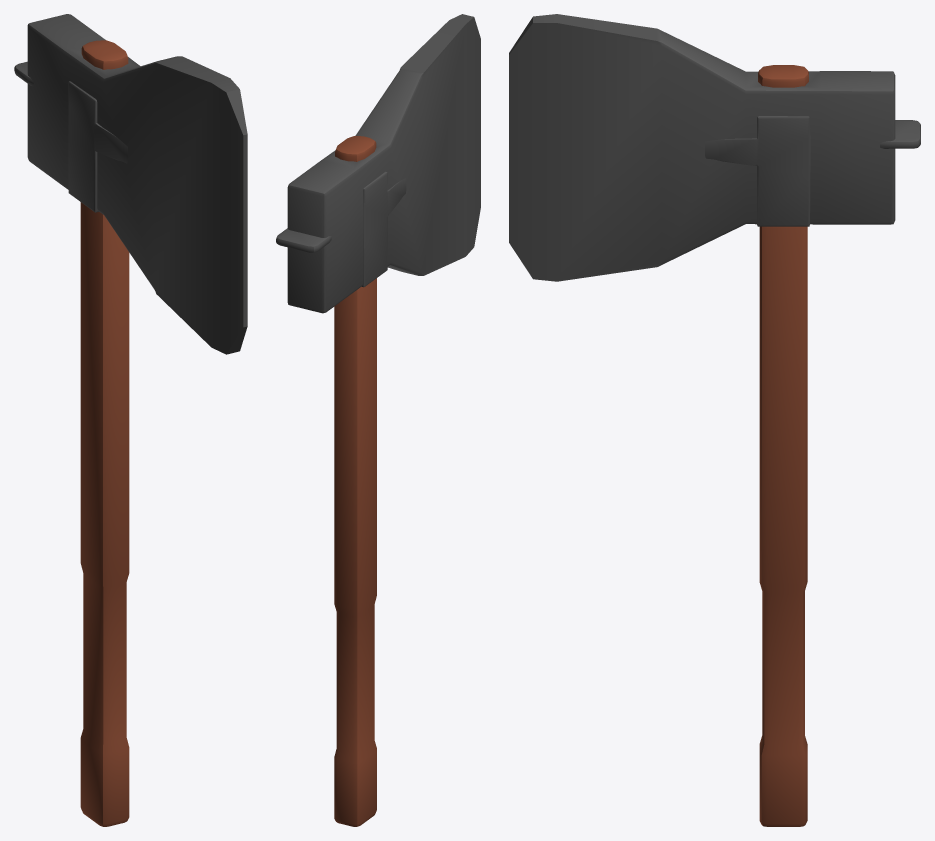
File: Staff.fbx
3 renders of one model, left to right at view 1: azimuth 30°, elevation 25°; view 2: azimuth 150°, elevation 25°; view 3: azimuth 270°, elevation 25°, orthographic. The views are drawn at different scales.
Visible parts, largest first — view 1: Axe, Pikeaxe; view 2: Axe, Pikeaxe; view 3: Axe, Pikeaxe.
Part boxes in pixels (box(x1,y1,x2,y2)): Axe: box(27, 14, 247, 826); Pikeaxe: box(14, 61, 127, 212); Axe: box(287, 14, 480, 826); Pikeaxe: box(276, 171, 406, 287); Axe: box(509, 14, 895, 826); Pikeaxe: box(705, 116, 920, 226).
Size of the model in its own units: 5.22 by 86.62 by 40.23.
